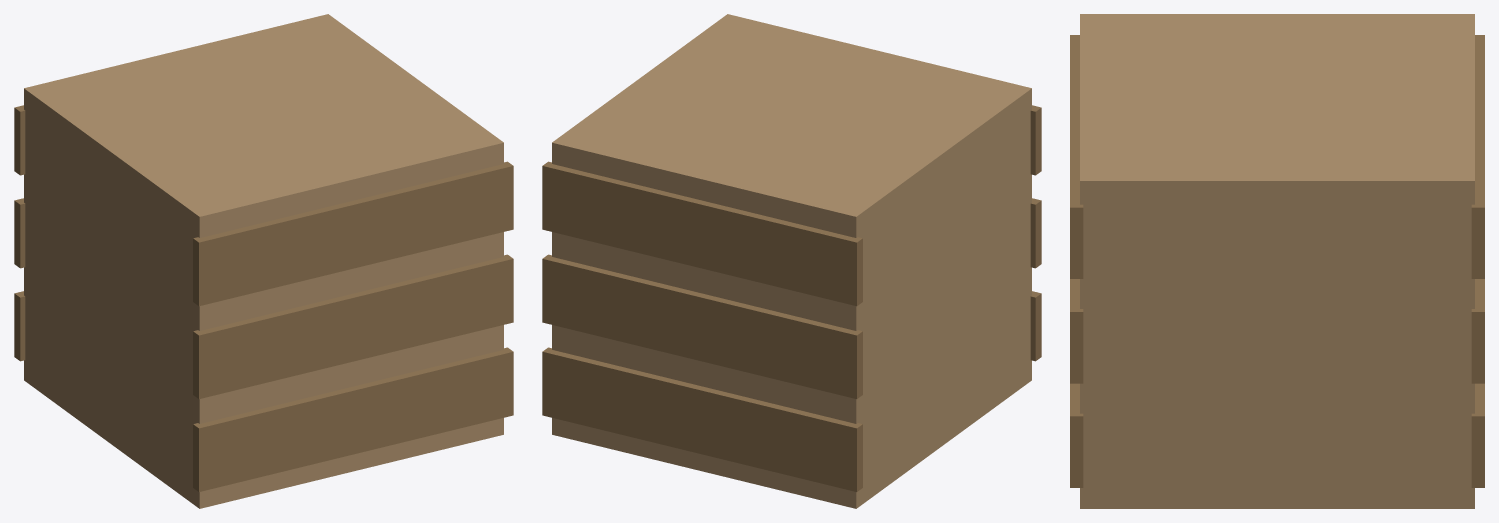
File: crate.glb
The picture shows the model from 3 angles, left to right: view 1: azimuth 30°, elevation 25°; view 2: azimuth 150°, elevation 25°; view 3: azimuth 270°, elevation 25°; orthographic projection. The views are drawn at different scales.
Visible parts, largest first — view 1: Crate; view 2: Crate; view 3: Crate.
Boxes of the visible parts, box(x1,y1,x2,y2) form: Crate: box(14, 14, 513, 508); Crate: box(542, 14, 1041, 508); Crate: box(1070, 14, 1484, 508).
Bounding box in the file's own units: 0.62 × 0.55 × 0.63.
